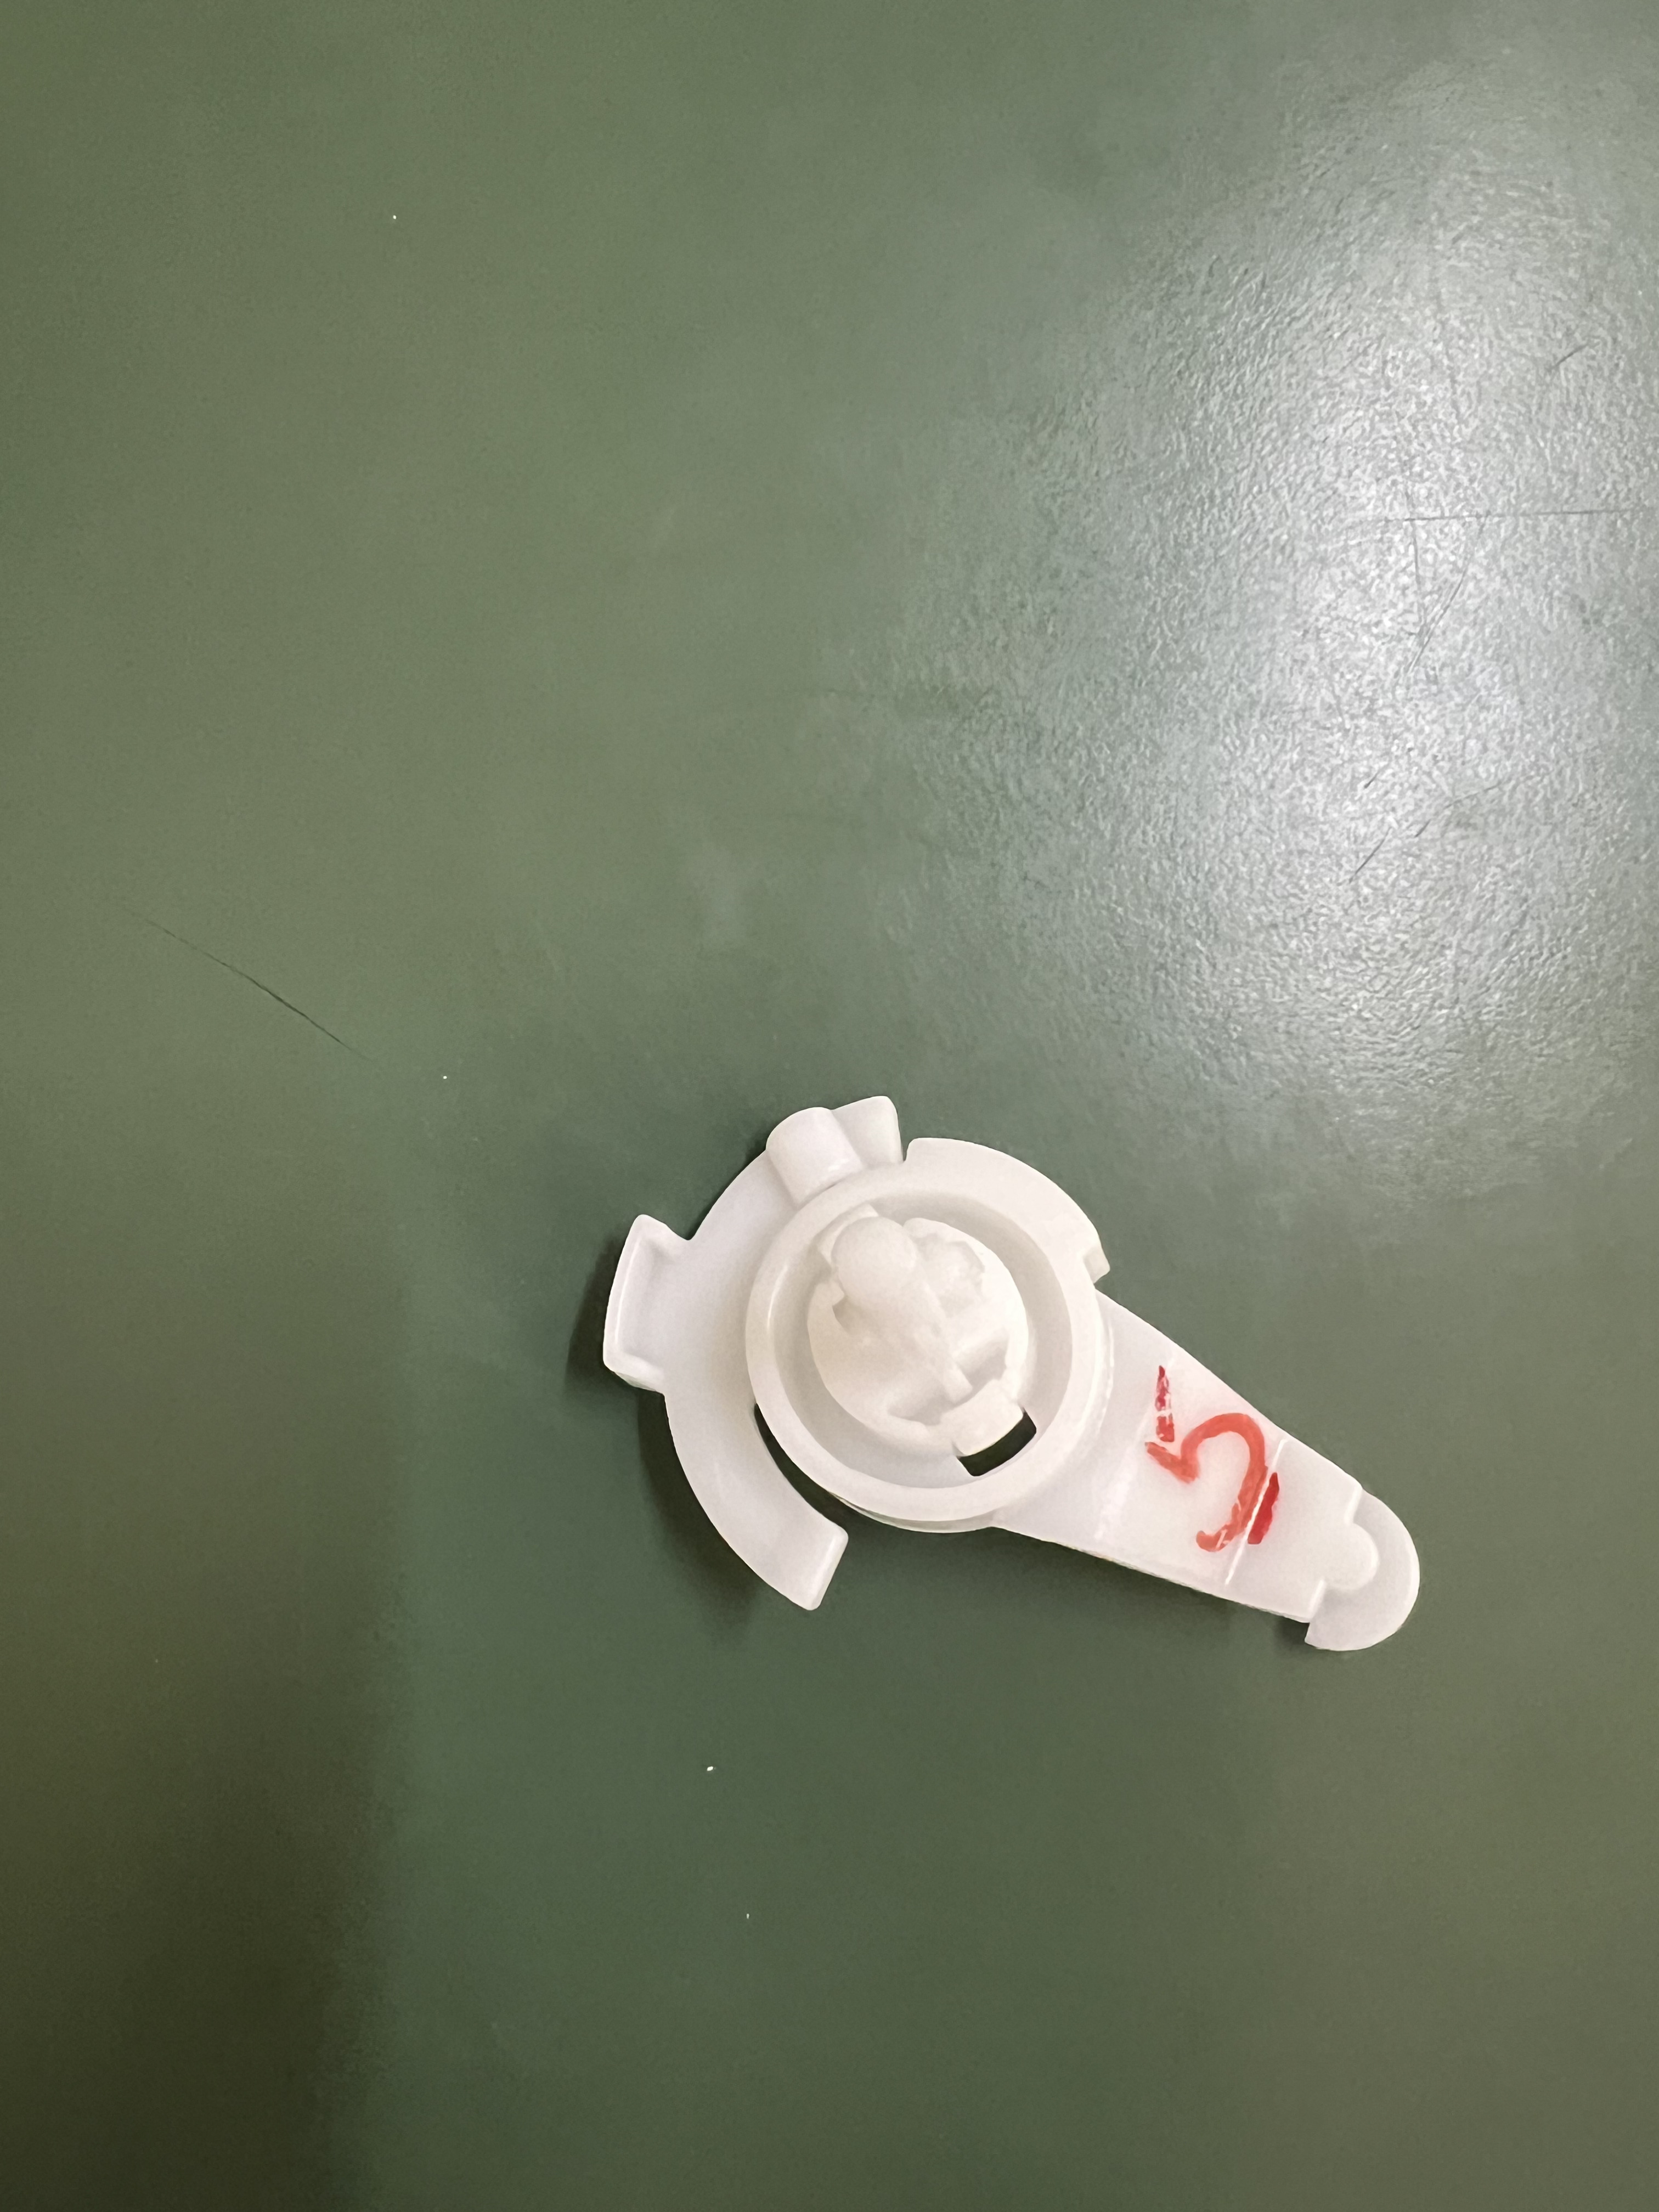drain_lever: (580, 1090, 1443, 1696)
